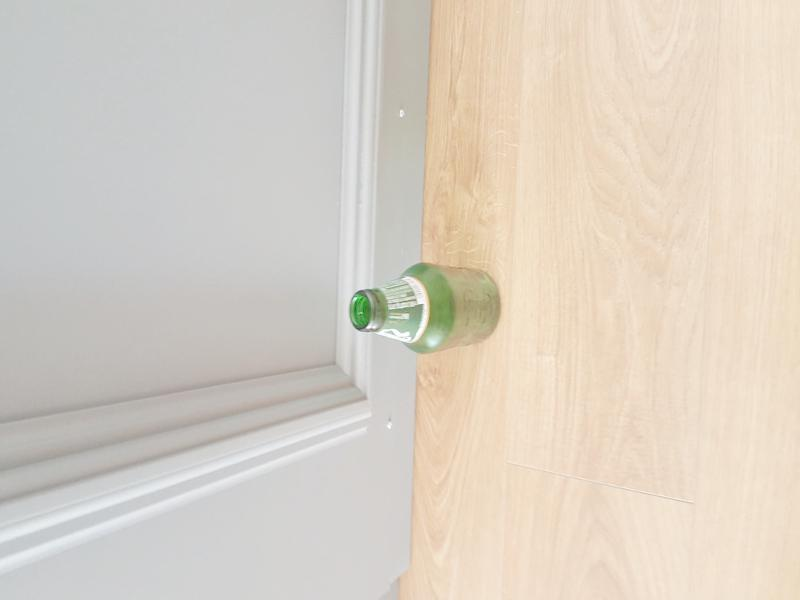Beer: (349, 262, 501, 353)
